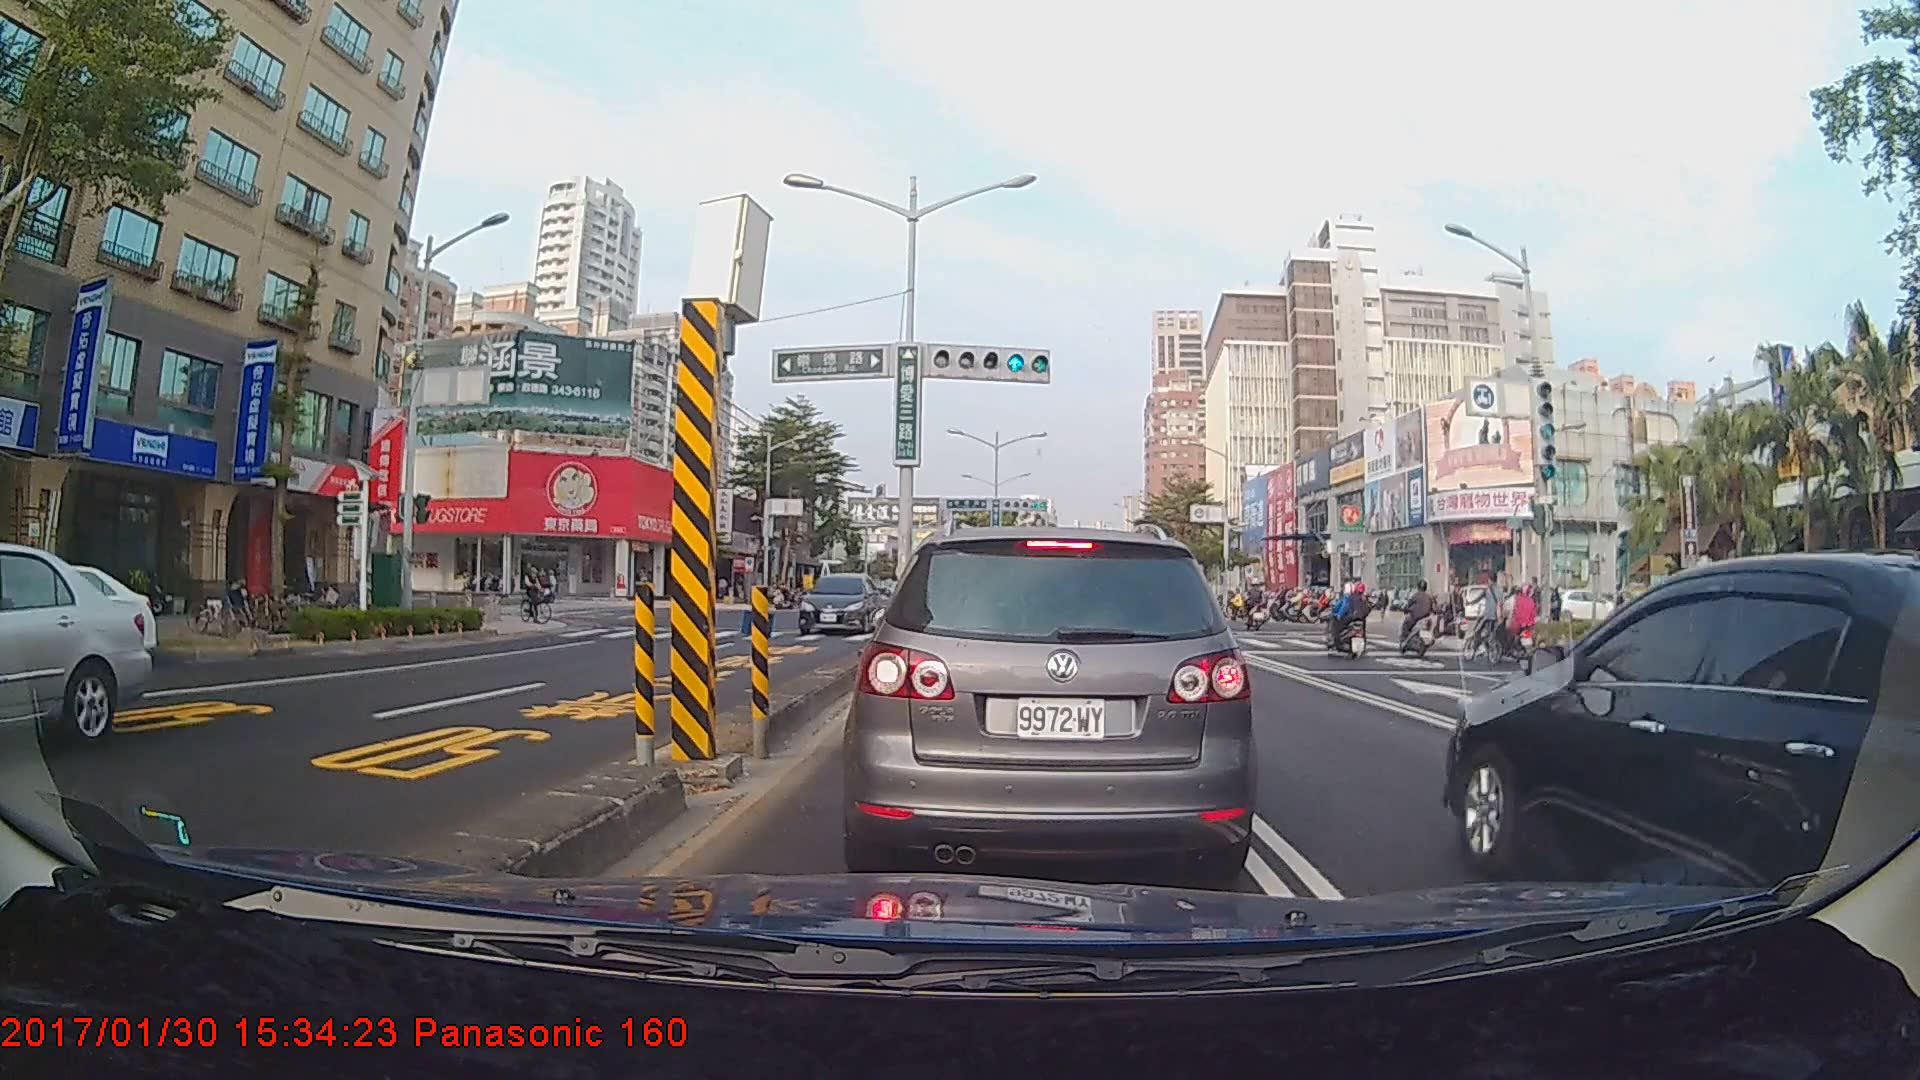pedestrian: (1609, 581, 1629, 640)
rider: (1466, 570, 1520, 666), (1326, 580, 1380, 663), (1397, 580, 1447, 660), (518, 559, 561, 629), (1239, 576, 1273, 636)
vehicle: (1442, 545, 1916, 883), (852, 522, 1250, 880), (0, 538, 150, 777), (0, 561, 157, 671), (797, 570, 884, 634)
